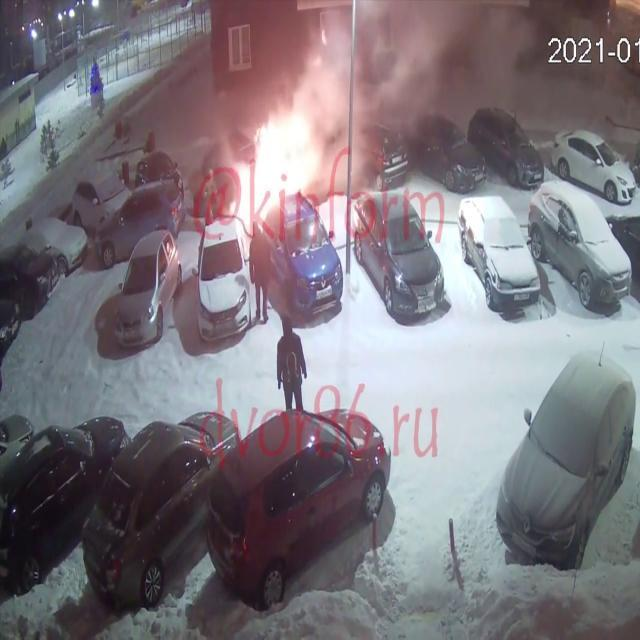Fire: (225, 100, 333, 227)
Smoke: (300, 0, 576, 126)
